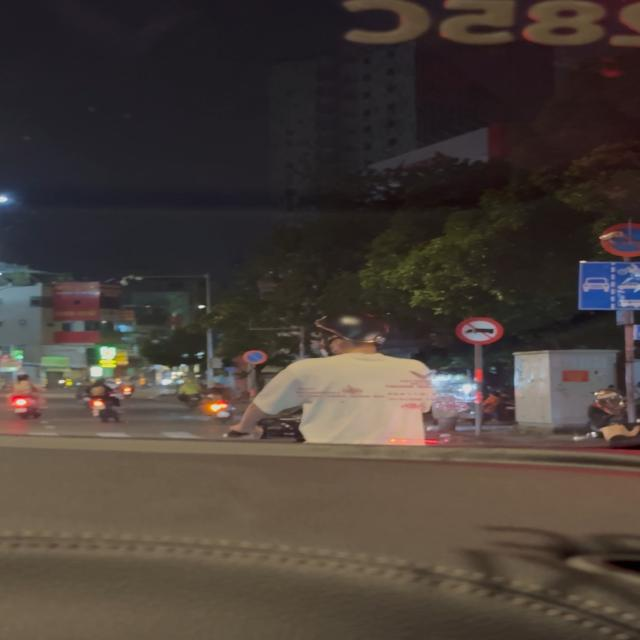Bien bao cam do xe: (239, 350, 270, 364)
Bien bao cam xe so-mi ro-mooc: (450, 316, 509, 347)
